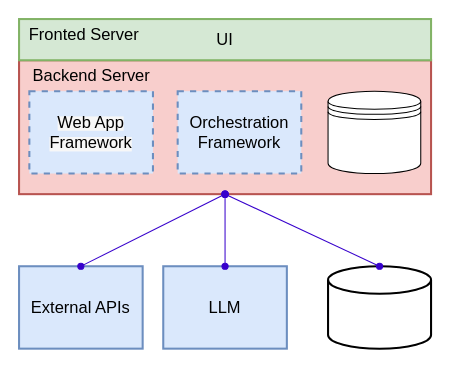
Image size: 449x367. Some labels were removed from this diagram. Each missing label, with the centre of its shape:
cloud storage: the point at 379,307
Vector Database: the point at 374,132
